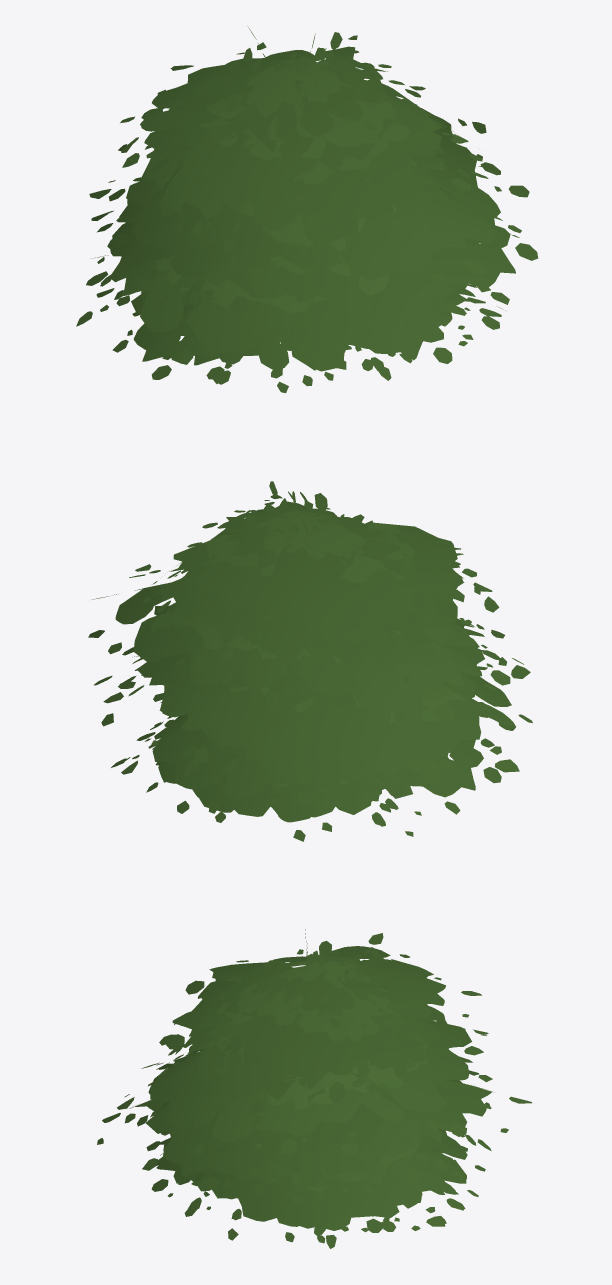
The model's file is SM_Env_Bush_01.fbx.
3 views of the same model, one above another, from view 1: azimuth 30°, elevation 25°; view 2: azimuth 150°, elevation 25°; view 3: azimuth 270°, elevation 25° (orthographic). The views are drawn at different scales.
Parts seen in each view (by area): view 1: SM_Env_Bush_01_LOD0; view 2: SM_Env_Bush_01_LOD0; view 3: SM_Env_Bush_01_LOD0.
Boxes of the visible parts, box(x1,y1,x2,y2) form: SM_Env_Bush_01_LOD0: box(76, 27, 538, 393); SM_Env_Bush_01_LOD0: box(88, 481, 532, 841); SM_Env_Bush_01_LOD0: box(97, 929, 531, 1248).
Size of what is drawn, in the model's own units: 431 by 229 by 433.
